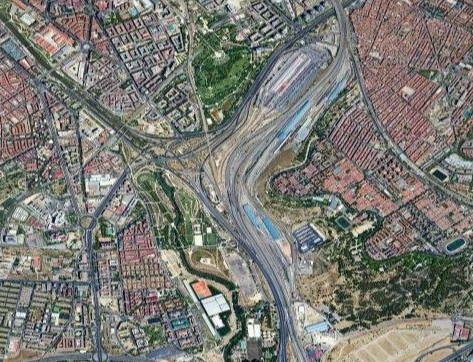motorway: (206, 180, 322, 362), (1, 3, 138, 148), (137, 94, 254, 206), (75, 167, 135, 362), (342, 69, 416, 170), (399, 135, 473, 236), (320, 1, 387, 72)
train_station: (243, 40, 325, 125)
